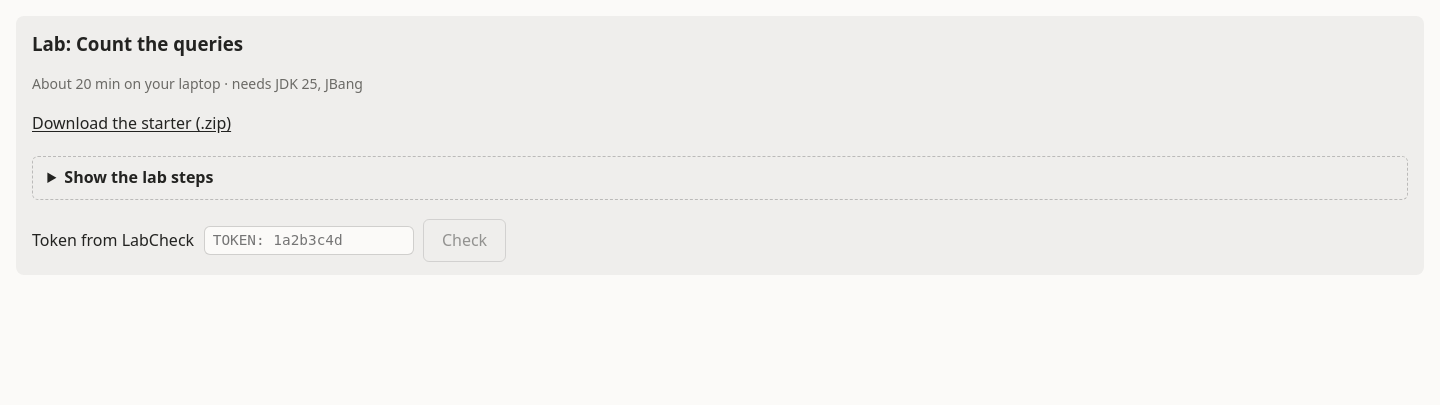
accepts the whole TOKEN line, checks it on the server and shows the lab as done
The width and height of the screenshot is (1440, 405).
Type "TOKEN: 70E1AB80" into the field labelled "Token from LabCheck" at (309, 240), box [204,226,414,255]
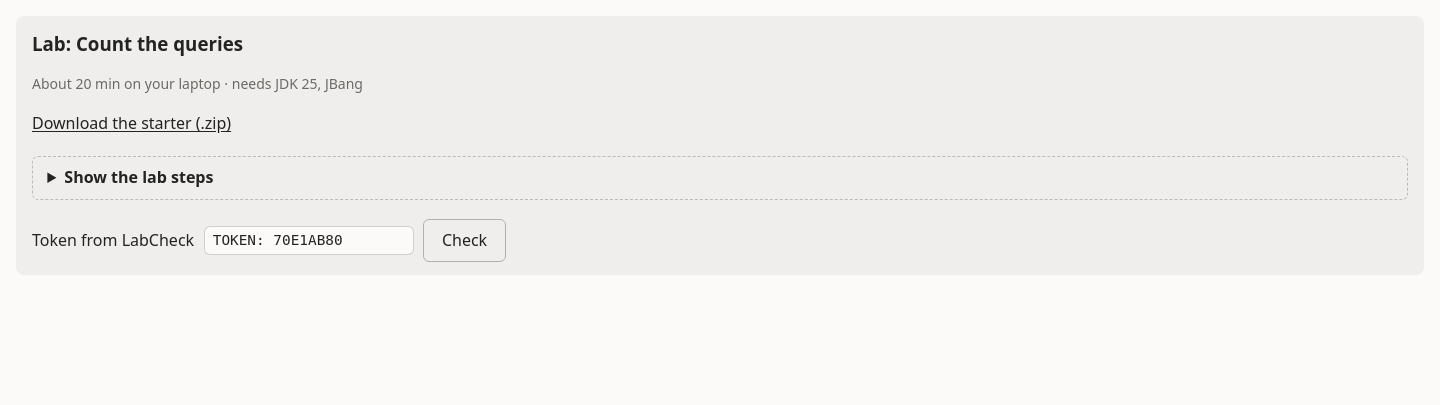
Click the button "Check" at (464, 240), box [423,219,506,262]
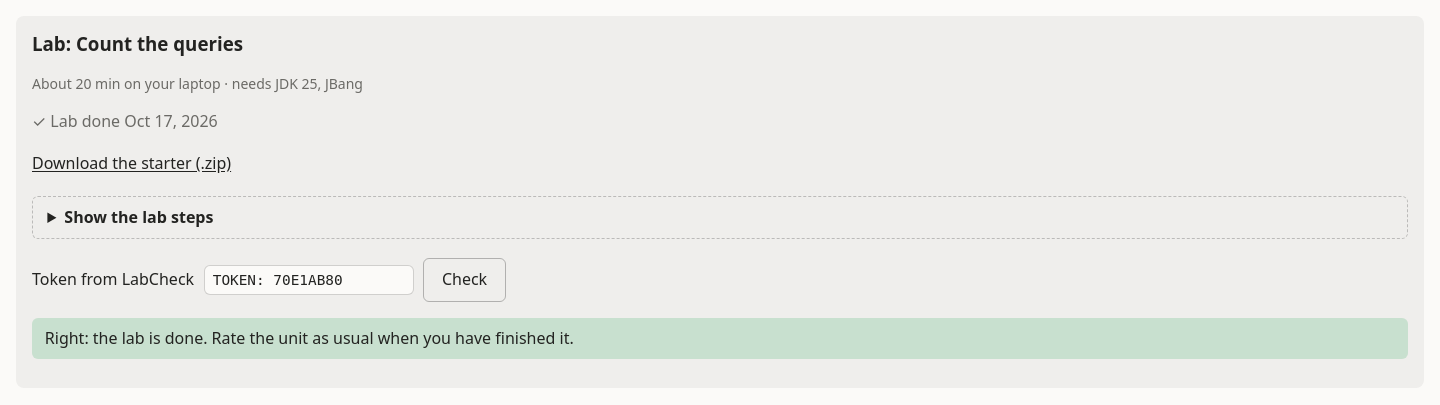
Result: the message shows "Right: the lab is done." at [45,327,574,349]
